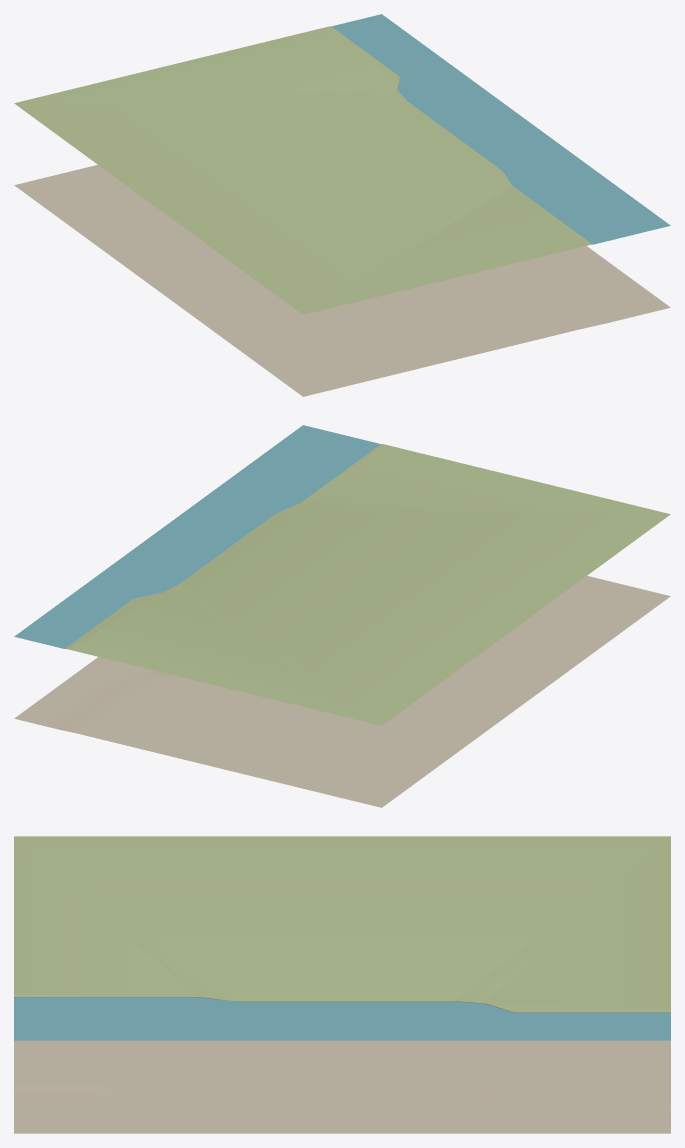
The picture shows the model from 3 angles, top to bottom: view 1: azimuth 30°, elevation 25°; view 2: azimuth 150°, elevation 25°; view 3: azimuth 270°, elevation 25°; orthographic projection. The views are drawn at different scales.
Parts seen in each view (by area): view 1: s_-13_2__grass, s_-13_2__soil, s_-13_2__water; view 2: s_-13_2__grass, s_-13_2__soil, s_-13_2__water; view 3: s_-13_2__grass, s_-13_2__soil, s_-13_2__water, s_-13_2__shore_bank.
Part boxes in pixels (left/top/right/bottom): s_-13_2__grass: left=14, top=26, right=592, bottom=314; s_-13_2__soil: left=14, top=165, right=670, bottom=396; s_-13_2__water: left=331, top=14, right=670, bottom=244; s_-13_2__grass: left=65, top=444, right=670, bottom=725; s_-13_2__soil: left=14, top=576, right=670, bottom=807; s_-13_2__water: left=14, top=425, right=380, bottom=648; s_-13_2__grass: left=14, top=836, right=670, bottom=1012; s_-13_2__soil: left=14, top=1040, right=670, bottom=1133; s_-13_2__water: left=14, top=997, right=670, bottom=1040; s_-13_2__shore_bank: left=14, top=997, right=670, bottom=1012.
Bounding box in the file's own units: 94 × 20.14 × 128.
